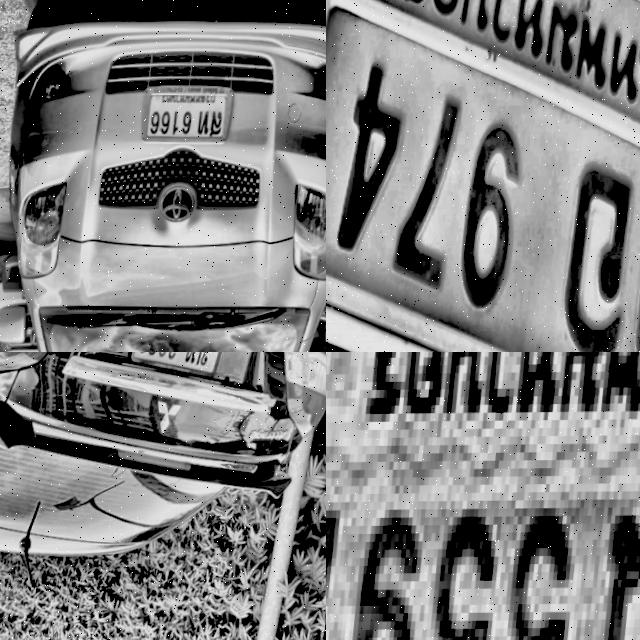license-plate: (326, 0, 640, 352), (326, 352, 640, 640), (141, 80, 241, 145), (129, 352, 241, 387)
